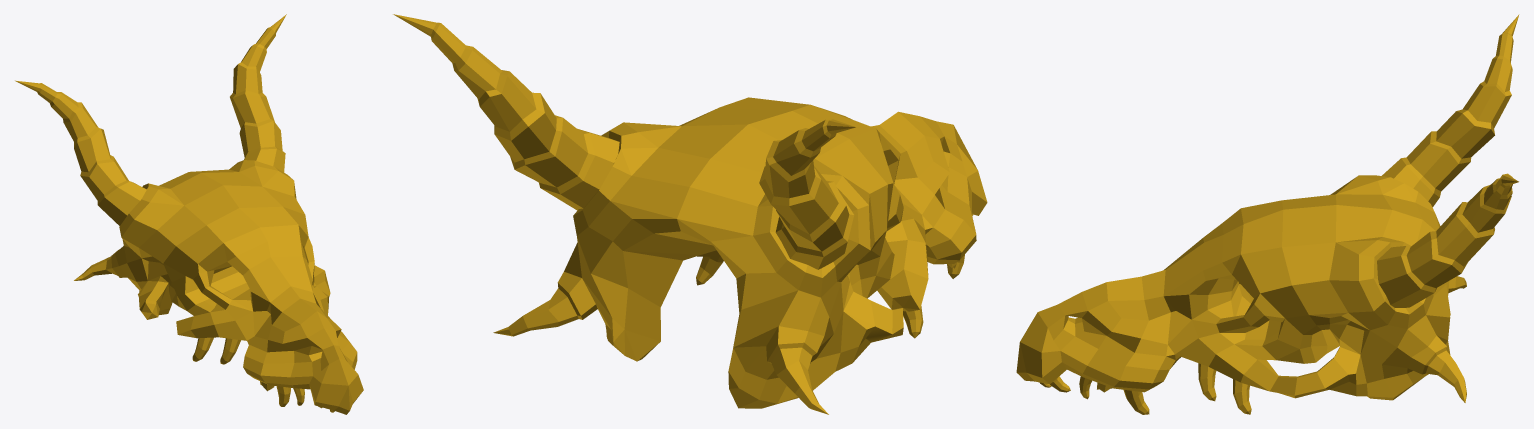
The model's file is skull.obj.
3 renders of one model, left to right at view 1: azimuth 30°, elevation 25°; view 2: azimuth 150°, elevation 25°; view 3: azimuth 270°, elevation 25°, orthographic. The views are drawn at different scales.
Visible parts, largest first — view 1: SM_Env_Bone_Skull_01; view 2: SM_Env_Bone_Skull_01; view 3: SM_Env_Bone_Skull_01.
Boxes of the visible parts, left/top/right/bottom form: SM_Env_Bone_Skull_01: left=15, top=14, right=363, bottom=414; SM_Env_Bone_Skull_01: left=393, top=14, right=987, bottom=414; SM_Env_Bone_Skull_01: left=1016, top=14, right=1519, bottom=414.
Bounding box in the file's own units: 9.28 × 7.59 × 11.74.
